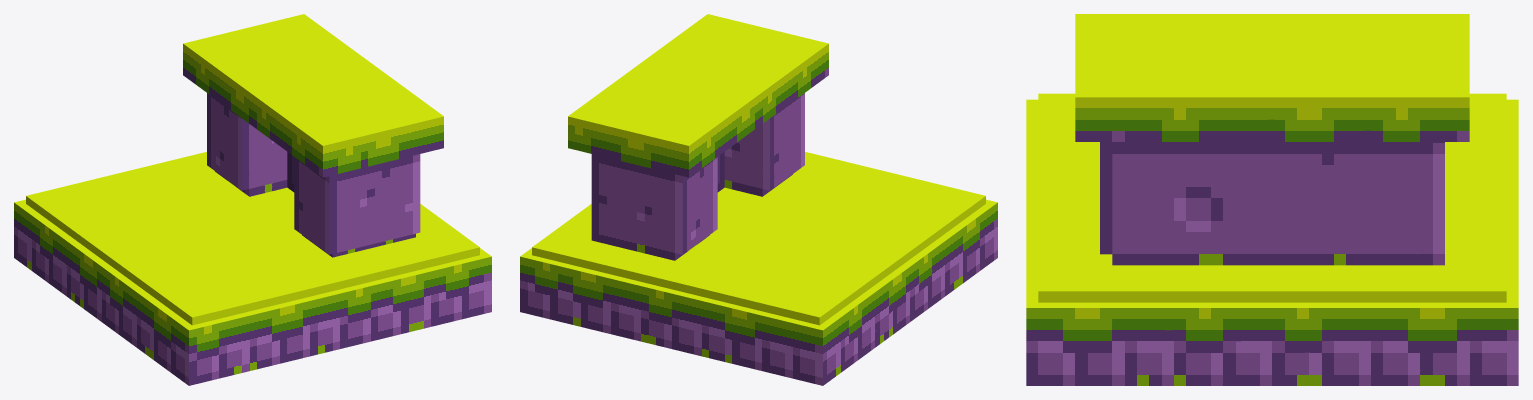
File: oldschool_desk_grassao.fezao.glb
3 views of the same model, side by side, from view 1: azimuth 30°, elevation 25°; view 2: azimuth 150°, elevation 25°; view 3: azimuth 270°, elevation 25° (orthographic). The views are drawn at different scales.
Parts seen in each view (by area): view 1: OLDSCHOOL_DESK_GRASSAO; view 2: OLDSCHOOL_DESK_GRASSAO; view 3: OLDSCHOOL_DESK_GRASSAO.
Part boxes in pixels (x1,y1,x2,y2): OLDSCHOOL_DESK_GRASSAO: (14,14,491,385); OLDSCHOOL_DESK_GRASSAO: (520,14,997,385); OLDSCHOOL_DESK_GRASSAO: (1026,14,1518,385).
Size of the model in its own units: 2.5 by 1.5 by 2.5.
1 material, 1 textured.
